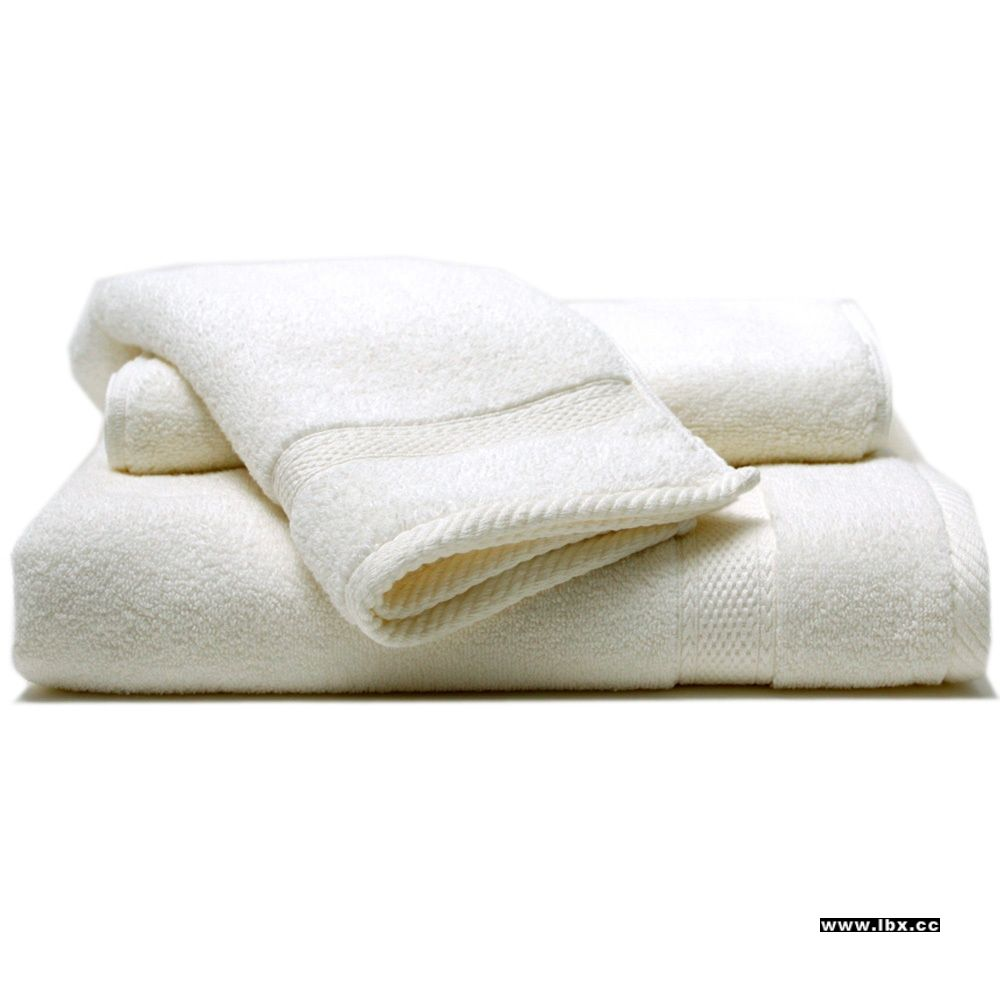flexible: (10, 253, 1000, 701)
